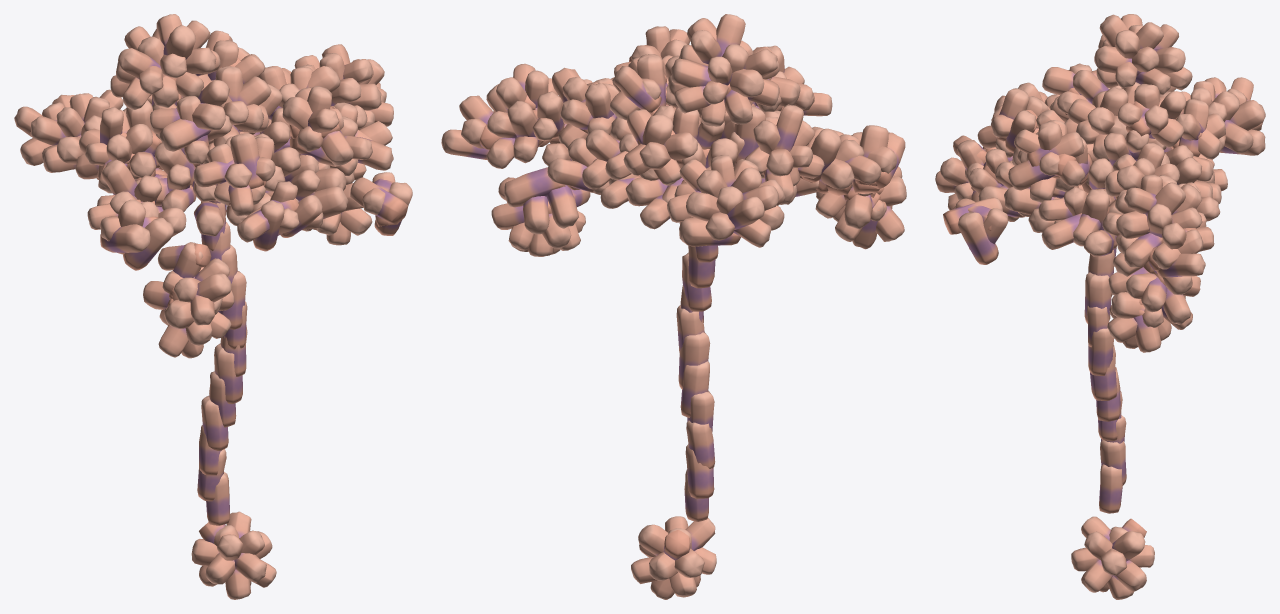
File: Polyp_CellCluster_Stage4.fbx
3 renders of one model, left to right at view 1: azimuth 30°, elevation 25°; view 2: azimuth 150°, elevation 25°; view 3: azimuth 270°, elevation 25°, orthographic. The views are drawn at different scales.
Visible parts, largest first — view 1: Polyp_CellCluster_Stage4; view 2: Polyp_CellCluster_Stage4; view 3: Polyp_CellCluster_Stage4.
Boxes of the visible parts, x1,y1,x2,y2 form: Polyp_CellCluster_Stage4: (14,14,412,599); Polyp_CellCluster_Stage4: (441,14,906,599); Polyp_CellCluster_Stage4: (935,14,1265,599).
Bounding box in the file's own units: 11.02 × 17.12 × 9.22.
